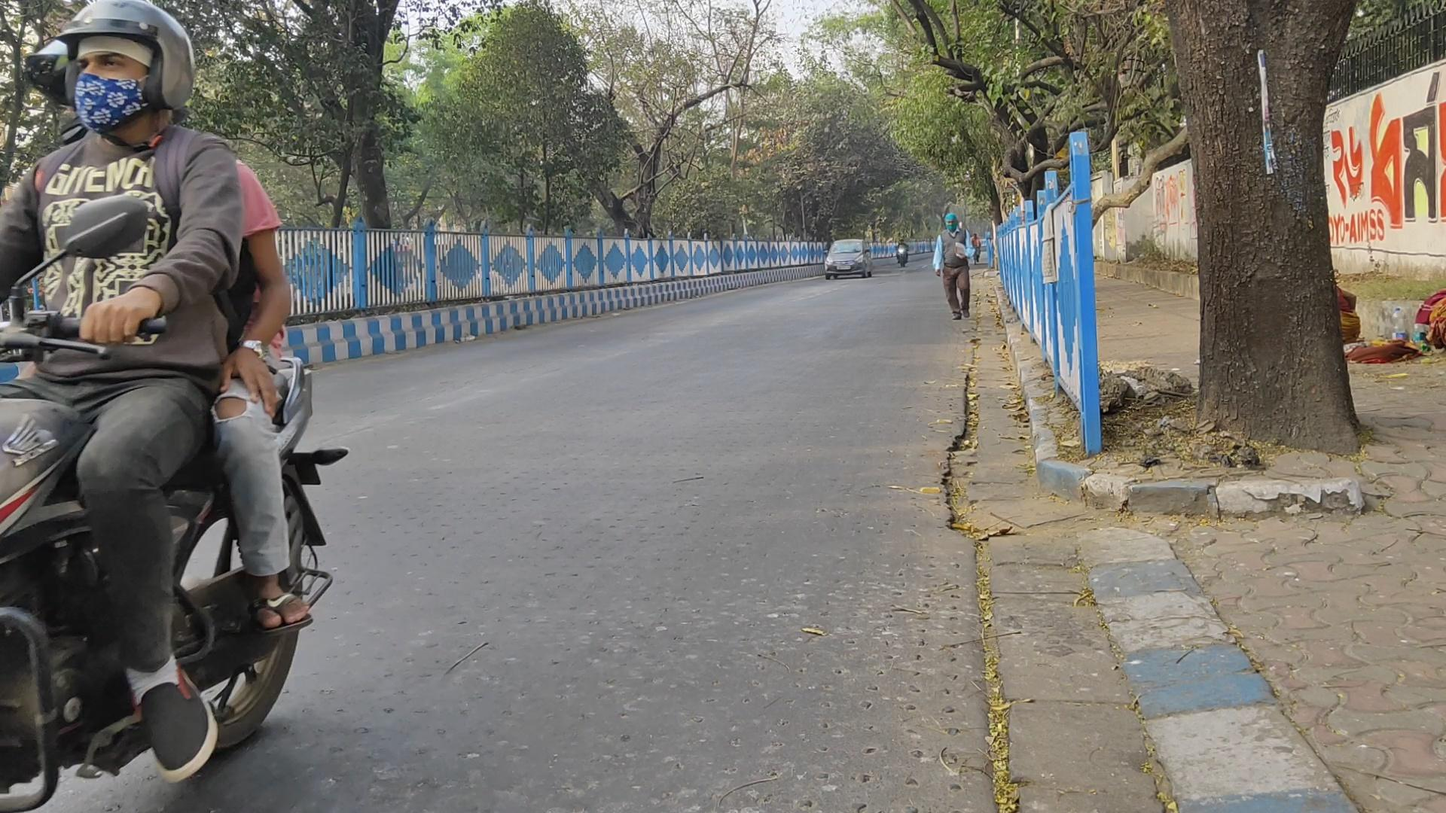bike: (1, 1, 352, 813), (895, 237, 910, 268), (970, 233, 982, 266)
car: (823, 239, 874, 280)
